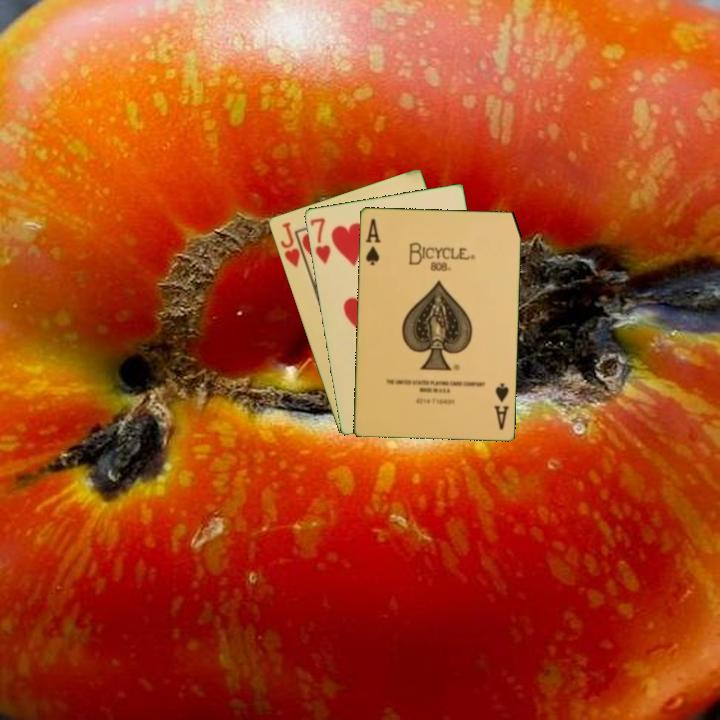7h: (306, 214, 333, 267)
As: (490, 379, 512, 432), (362, 215, 383, 268)
Jh: (277, 218, 303, 270)
